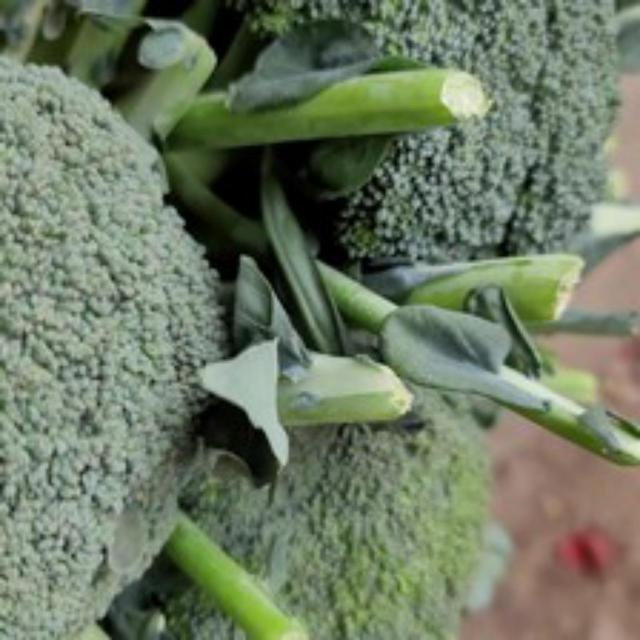broccoli: (0, 40, 242, 637)
